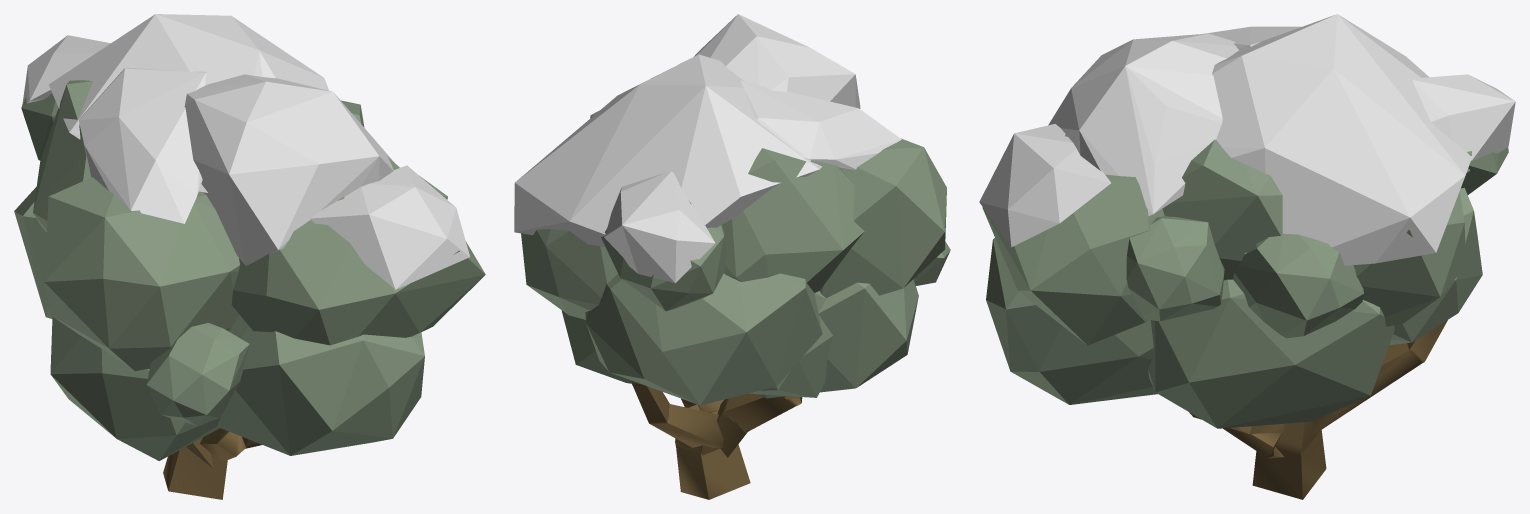
The model's file is bush.fbx.
3 renders of one model, left to right at view 1: azimuth 30°, elevation 25°; view 2: azimuth 150°, elevation 25°; view 3: azimuth 270°, elevation 25°, orthographic. The views are drawn at different scales.
Visible parts, largest first — view 1: bush; view 2: bush; view 3: bush.
Boxes of the visible parts, box(x1,y1,x2,y2) form: bush: box(14, 14, 485, 499); bush: box(514, 14, 950, 499); bush: box(979, 14, 1515, 499).
Bounding box in the file's own units: 145 × 168 × 176.
